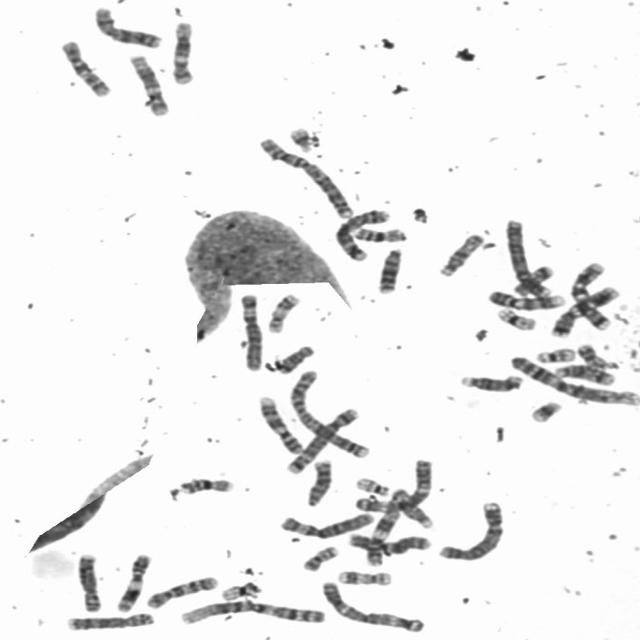A1: (499, 353, 638, 410), (168, 598, 335, 628)
A2: (254, 135, 357, 220), (288, 368, 371, 462)
A3: (320, 579, 425, 632), (352, 458, 436, 514)
B4: (434, 499, 508, 562), (502, 214, 551, 303)
B5: (284, 405, 365, 475), (334, 207, 392, 262)
C10: (59, 37, 114, 100), (143, 574, 220, 611)
C11: (112, 555, 153, 613), (364, 507, 402, 568)
C12: (125, 52, 172, 119), (165, 16, 198, 90)
C6: (279, 513, 376, 540), (234, 291, 266, 372)
C7: (548, 285, 620, 339), (564, 256, 608, 342)
C8: (64, 612, 156, 632), (75, 552, 102, 616)
C9: (257, 395, 305, 456), (481, 288, 570, 313)
D13: (301, 458, 334, 509), (374, 247, 404, 296)
D14: (455, 373, 525, 394), (546, 364, 616, 383)
D15: (435, 233, 486, 279), (388, 486, 435, 528)
E16: (175, 475, 235, 496), (352, 227, 409, 245)
E17: (266, 293, 300, 334), (336, 568, 394, 589)
E18: (512, 264, 555, 300), (272, 344, 316, 375)
F19: (490, 309, 538, 332), (216, 581, 265, 602)
F20: (574, 342, 620, 372), (299, 543, 342, 573)
G21: (524, 400, 566, 426), (285, 125, 316, 154)
G22: (353, 476, 390, 497), (534, 346, 576, 364)
X: (90, 3, 164, 50), (346, 530, 434, 558)
